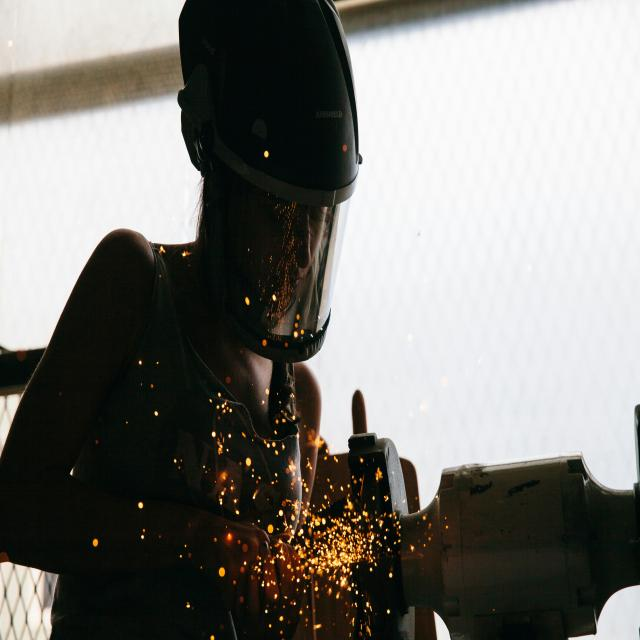with_helmet: (173, 0, 360, 360)
